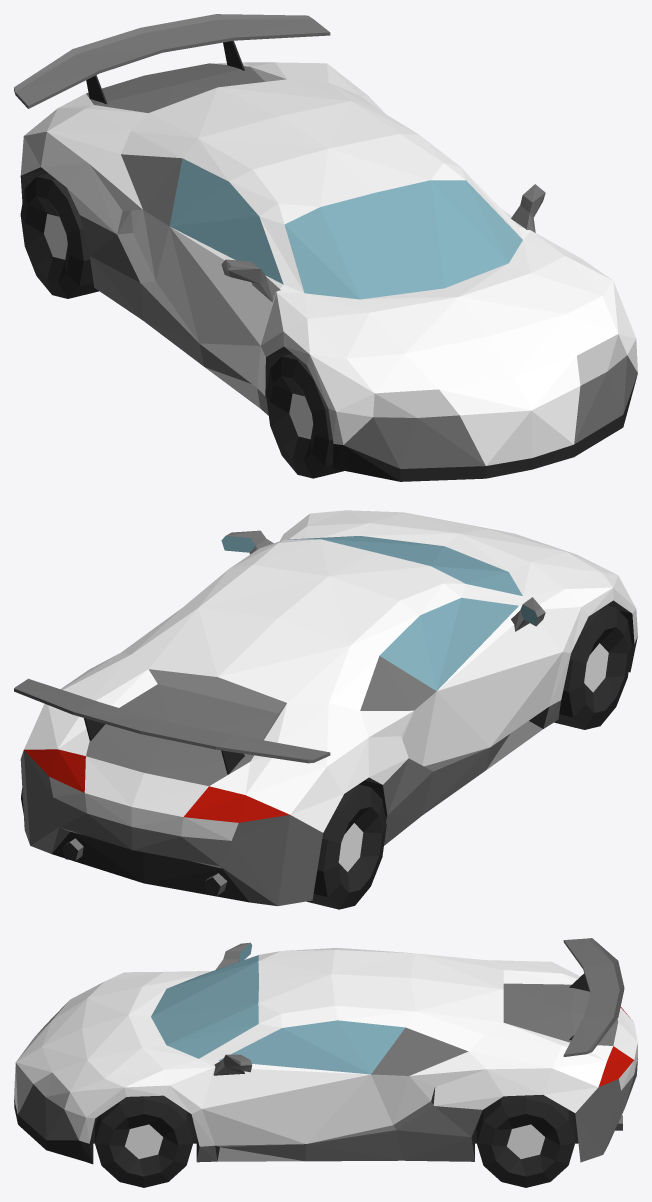
File: Sport_10.FBX
3 renders of one model, top to bottom at view 1: azimuth 30°, elevation 25°; view 2: azimuth 150°, elevation 25°; view 3: azimuth 270°, elevation 25°, orthographic. The views are drawn at different scales.
Visible parts, largest first — view 1: Sport_10, Wheel_RR, Wheel_FR; view 2: Sport_10, Wheel_RR, Wheel_FR; view 3: Sport_10, Wheel_RL, Wheel_FL.
Boxes of the visible parts, x1,y1,x2,y2 form: Sport_10: (14, 14, 637, 481); Wheel_RR: (20, 173, 98, 298); Wheel_FR: (266, 353, 343, 478); Sport_10: (14, 510, 637, 906); Wheel_RR: (306, 784, 386, 909); Wheel_FR: (554, 605, 631, 729); Sport_10: (14, 938, 637, 1164); Wheel_RL: (476, 1095, 575, 1187); Wheel_FL: (95, 1095, 193, 1187).
Size of the model in its own units: 206 by 124 by 449.
